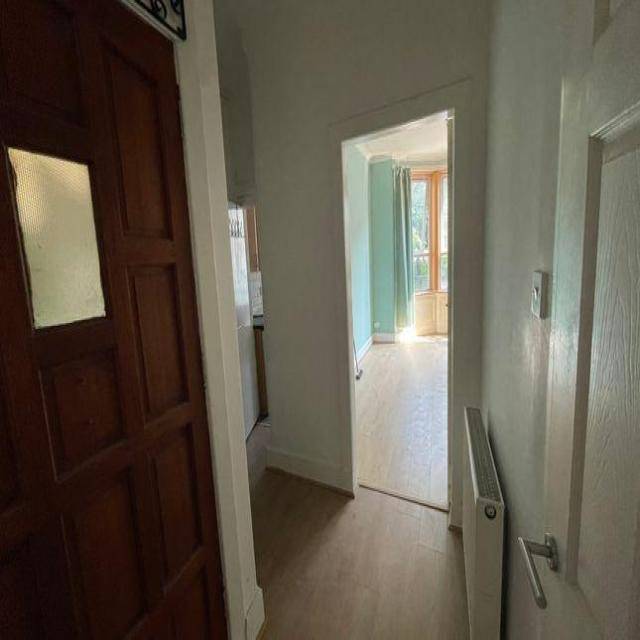Wall: (217, 2, 565, 637), (248, 338, 467, 639), (175, 0, 265, 639), (346, 142, 395, 359), (354, 111, 446, 167)
